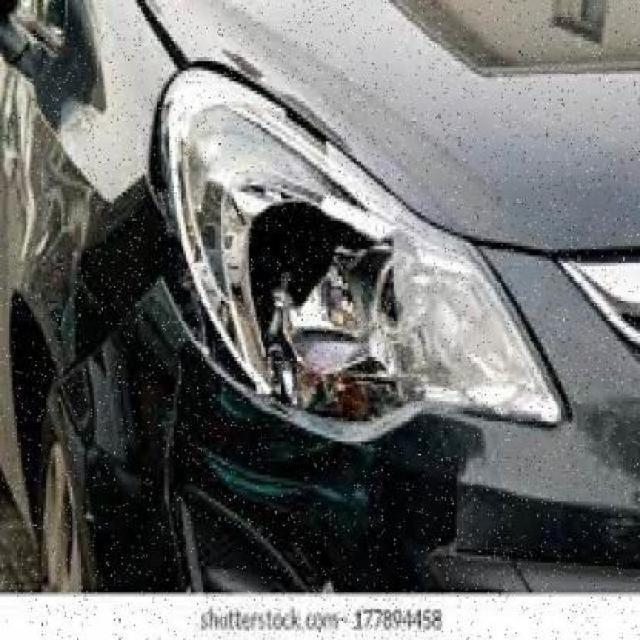Headlight-Damage: (155, 68, 443, 419)
front-bumper-dent: (25, 259, 412, 586)
